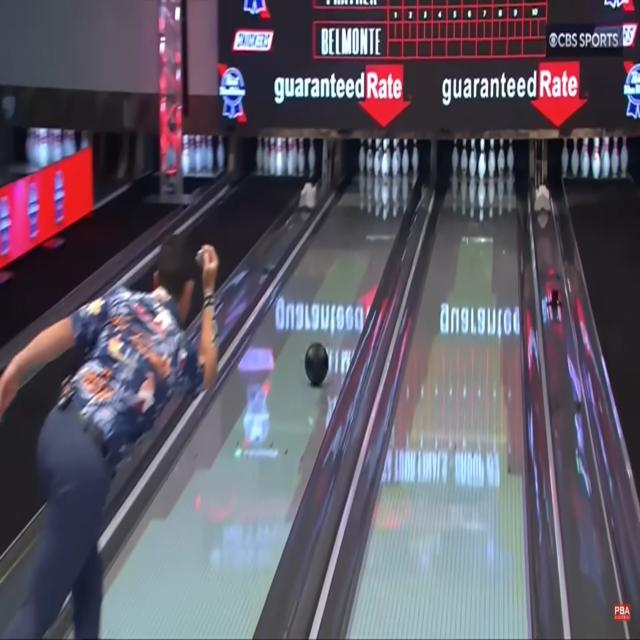alley: (100, 172, 416, 638)
balls: (304, 342, 329, 386)
bottle: (355, 135, 422, 176)
